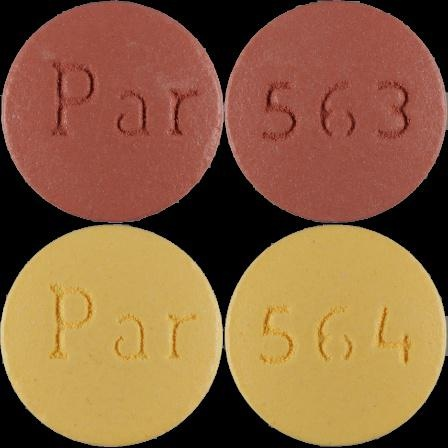49884-563: (0, 0, 224, 224)
